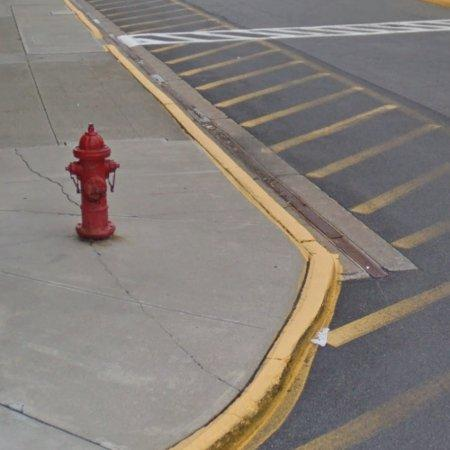a fire hydrant: (66, 124, 120, 239)
